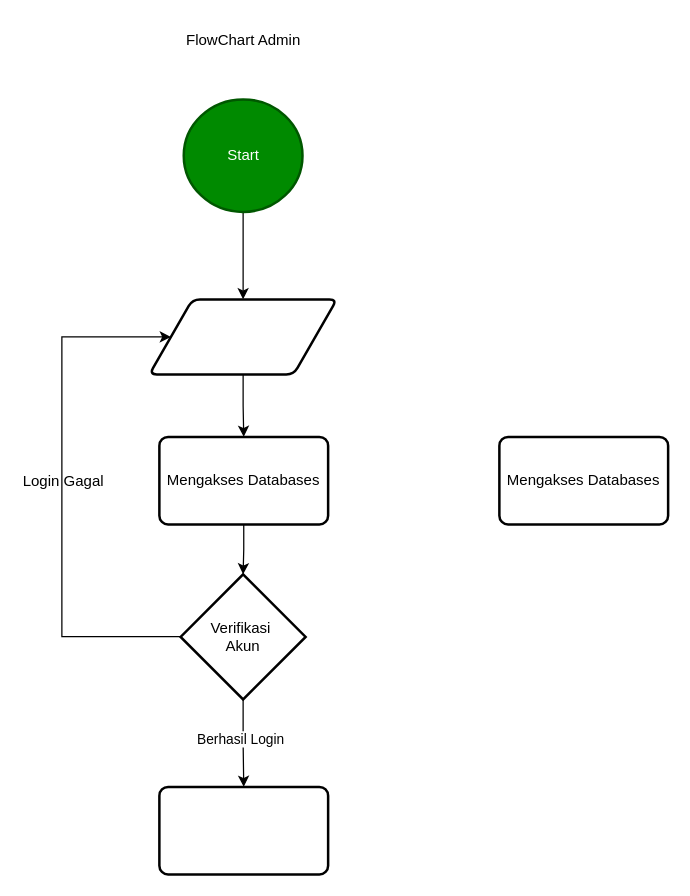
Some shapes in this 690 by 896 pixel diagram are drawn without their labels. The shapes that lost their labels are listed below. From the top down, each one's centre as x and y in pixels, then its label:
[243,336]: Login Website
[243,830]: Menampilkan Halaman Dashboard Admin
